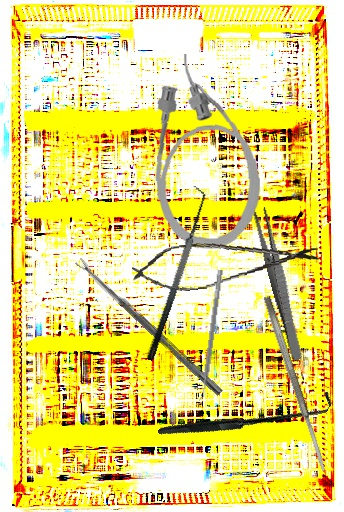Cannula: (148, 50, 264, 252)
Dressing Forceps: (251, 206, 307, 362)
Hook Surgical: (157, 326, 336, 504)
Micro Scissor: (129, 228, 322, 298)
Spatula Surgical: (132, 185, 215, 362), (261, 294, 329, 474), (195, 268, 224, 403)
Surgical Spoon: (75, 256, 224, 397)
